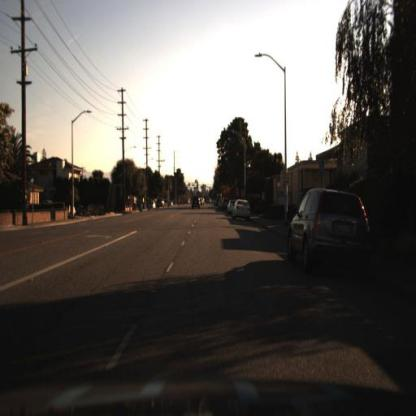car: (279, 180, 375, 288), (233, 197, 258, 224), (189, 195, 205, 215), (225, 197, 235, 219)
